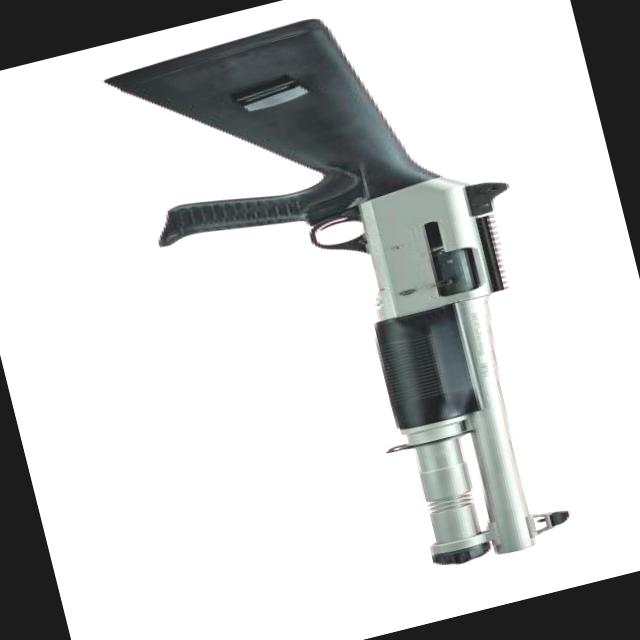long weapon: (33, 0, 624, 621)
